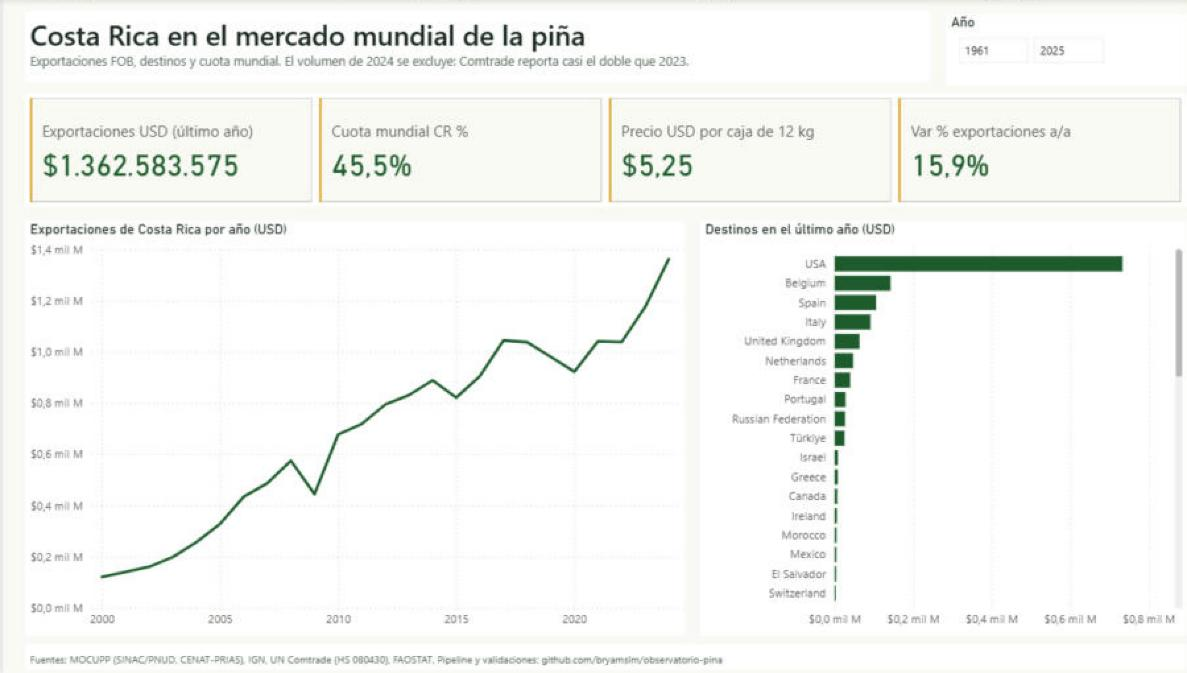

The dashboard page shown, as its layout file describes it:
{"tool":"powerbi","page":{"name":"1 · Mercado","canvas":[1280,720],"ordinal":0},"visuals":[{"type":"textbox","box":[24,12,960,76],"z":1000},{"type":"slicer","title":"Año","fields":{"Values":["Año.anio"]},"box":[1000,16,256,76],"z":2000},{"type":"cardVisual","fields":{"Data":["Medidas.Exportaciones USD (último año)","Medidas.Cuota mundial CR %","Medidas.Precio USD por caja de 12 kg","Medidas.Var % exportaciones a/a"]},"box":[24,100,1232,120],"z":3000},{"type":"lineChart","title":"Exportaciones de Costa Rica por año (USD)","fields":{"Category":["Año.anio"],"Y":["Medidas.Exportaciones USD"]},"box":[24,236,700,440],"z":4000},{"type":"clusteredBarChart","title":"Destinos en el último año (USD)","fields":{"Category":["País.pais"],"Y":["Medidas.Exportaciones USD (último año)"]},"box":[740,236,516,440],"z":5000},{"type":"textbox","box":[24,684,1232,28],"z":9000}]}

Visuals, with their boxes in screenshot pixels (x1, y1, x2, y2), scaled from the page's 1280x720 canvas onto the 1187x673 screenshot:
textbox: rect(22, 11, 913, 82)
"Año" slicer: rect(927, 15, 1165, 86)
cardVisual - Medidas.Exportaciones USD (último año) x Medidas.Cuota mundial CR %: rect(22, 93, 1165, 206)
"Exportaciones de Costa Rica por año (USD)" lineChart: rect(22, 221, 671, 632)
"Destinos en el último año (USD)" clusteredBarChart: rect(686, 221, 1165, 632)
textbox: rect(22, 639, 1165, 666)
